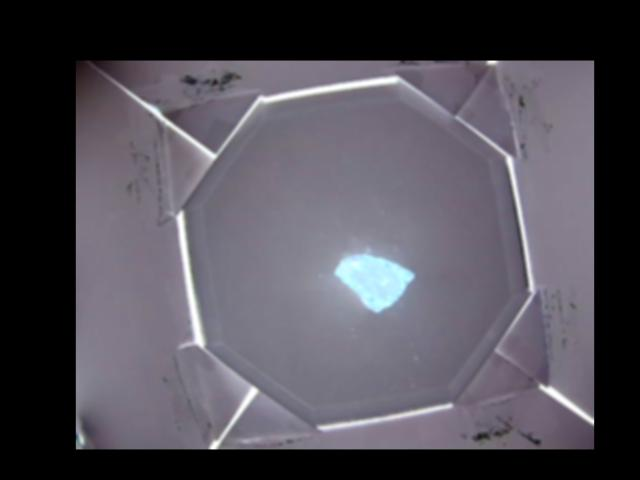Brisk: (335, 253, 416, 311)
